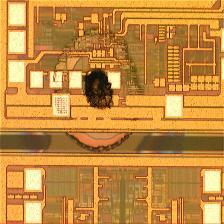PARTICLE: (48, 23, 153, 154)
